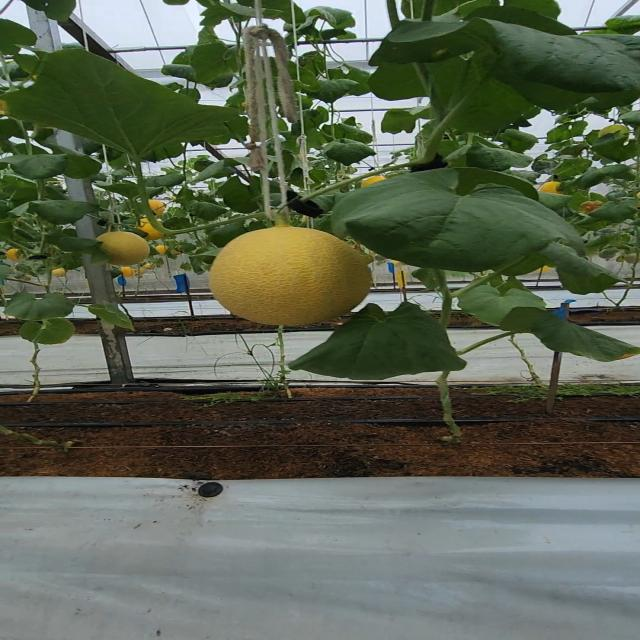Front-melon: (205, 229, 366, 329)
